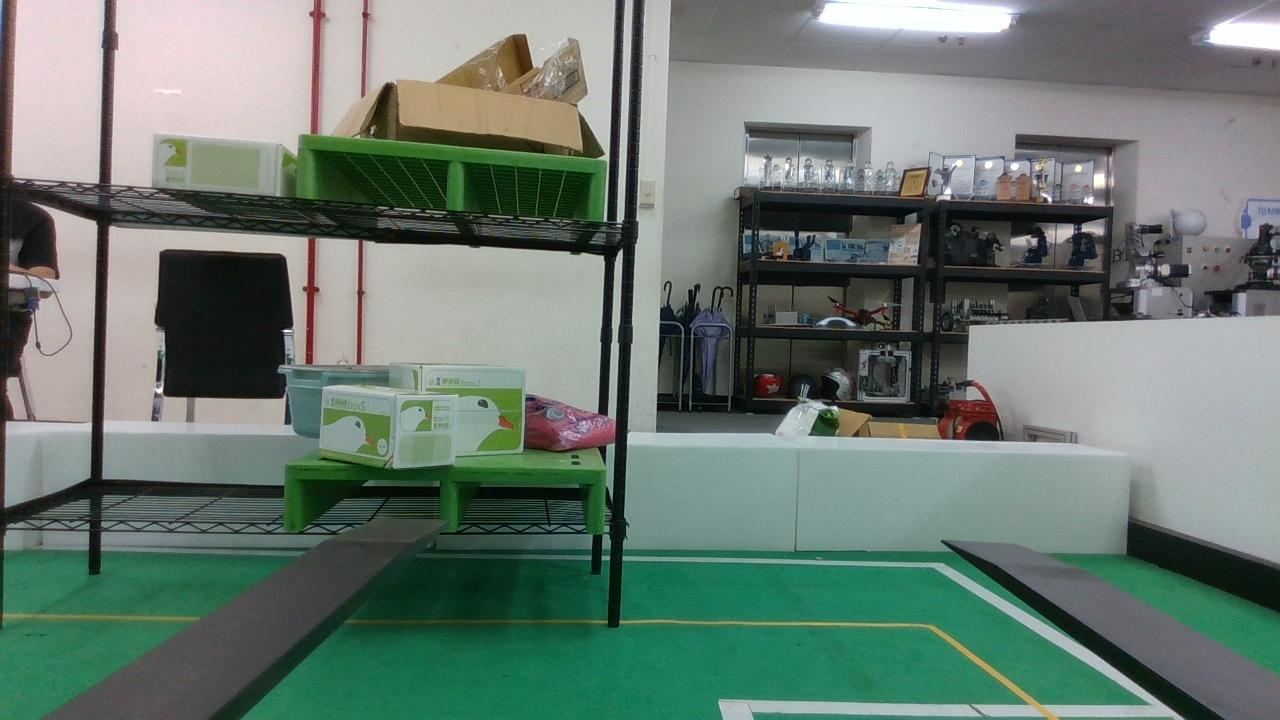Pallet: (295, 133, 607, 225), (283, 461, 608, 531)
